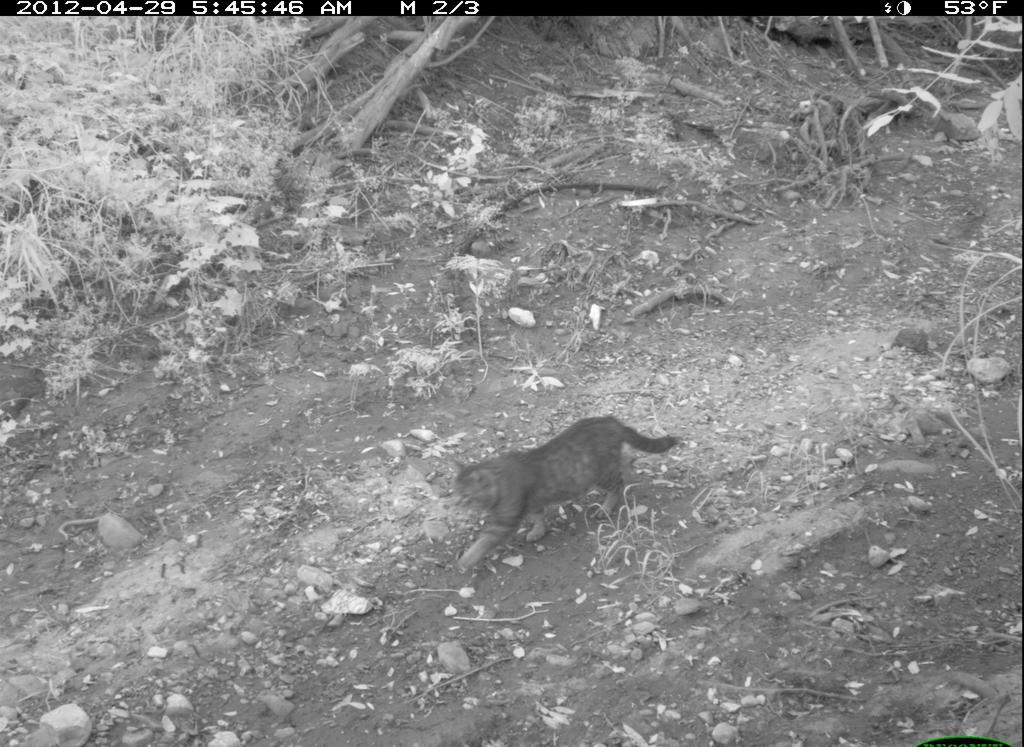cat: (425, 409, 687, 577)
